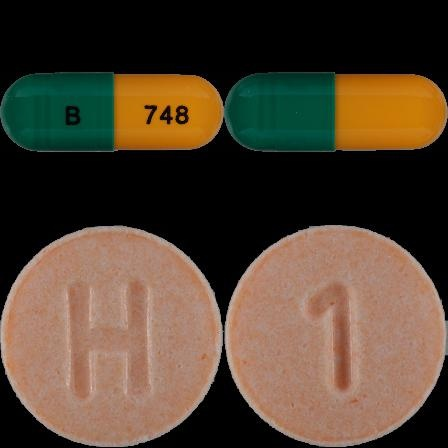68788-7399: (0, 0, 224, 224)
